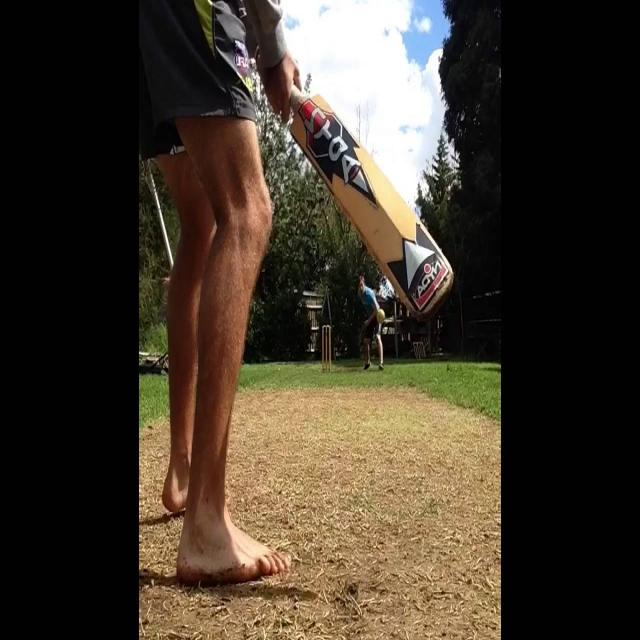stump: (321, 325, 331, 367)
